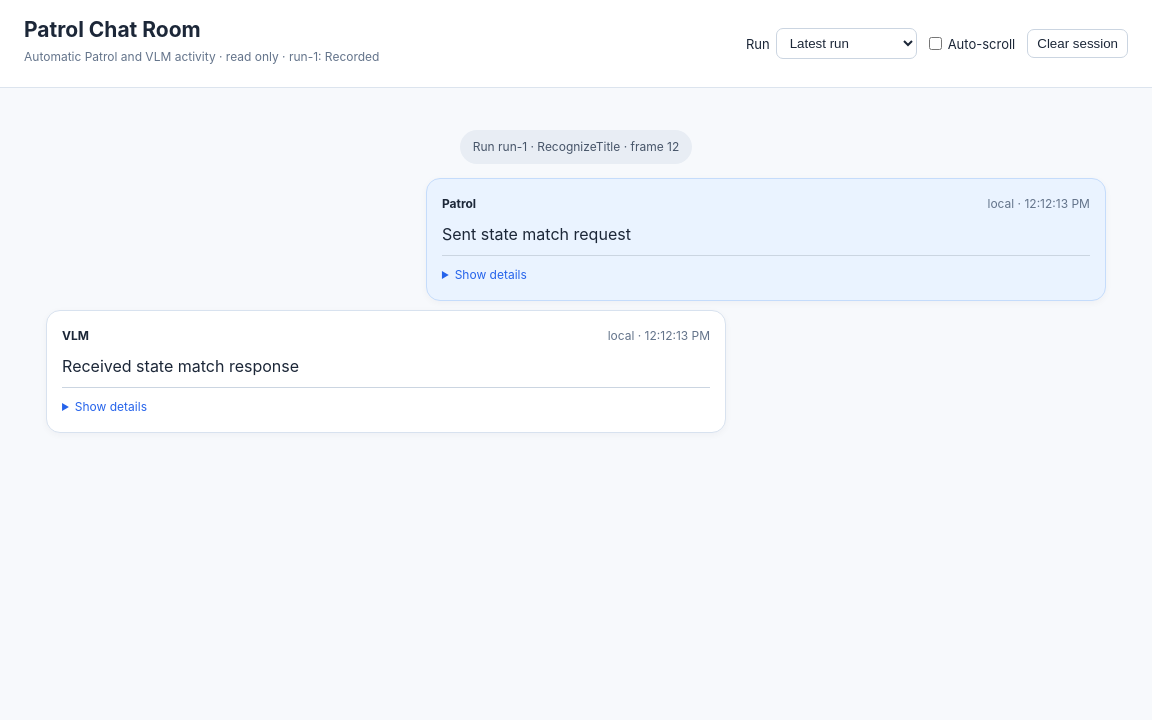
Test: Patrol Chat Room › places Patrol and VLM messages on opposite sides and keeps details and images closed
The width and height of the screenshot is (1152, 720).
Expected: the text "Run run-1 · RecognizeTitle · frame 12" is shown once, [460,130,692,164]
Expected: the text "Exact system instruction" is not shown
Step 1. Click the heading "Show details" below "Sent state match request" → point(491, 275), box [455,267,527,282]
(page scrolled)
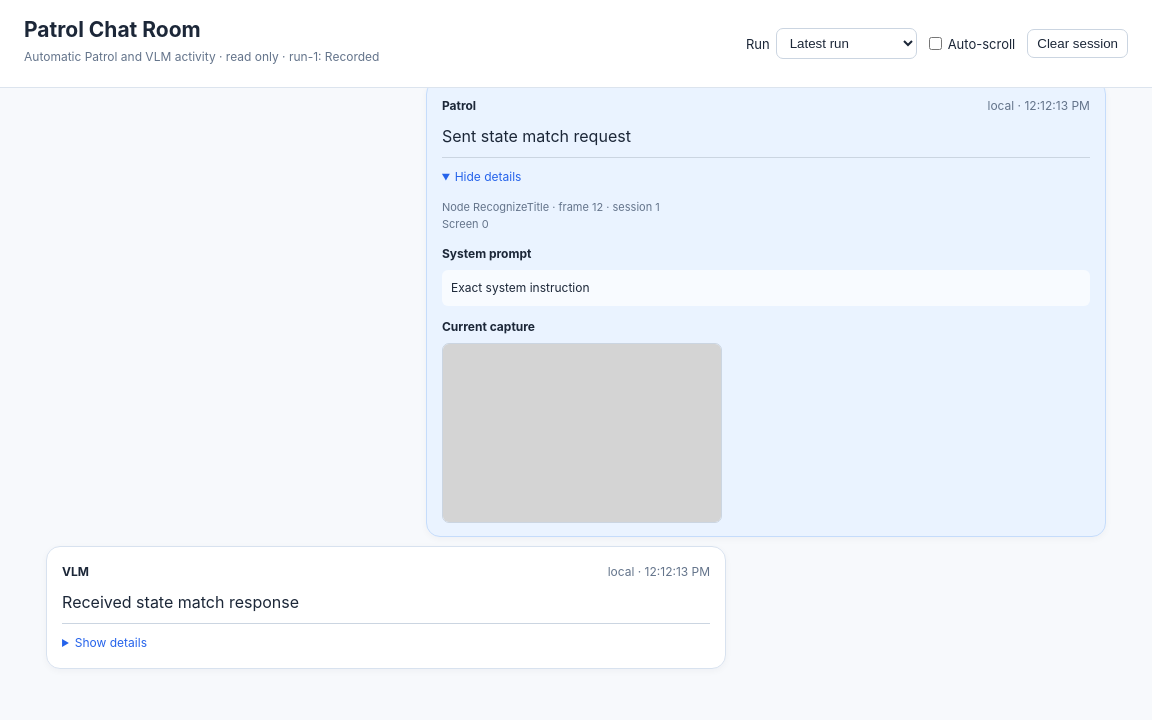
Result: the text "Exact system instruction" is shown at [442,270,1090,306]
Step 2. Click the heading "Show details" → point(111, 643), box [75,635,147,650]
(page scrolled)
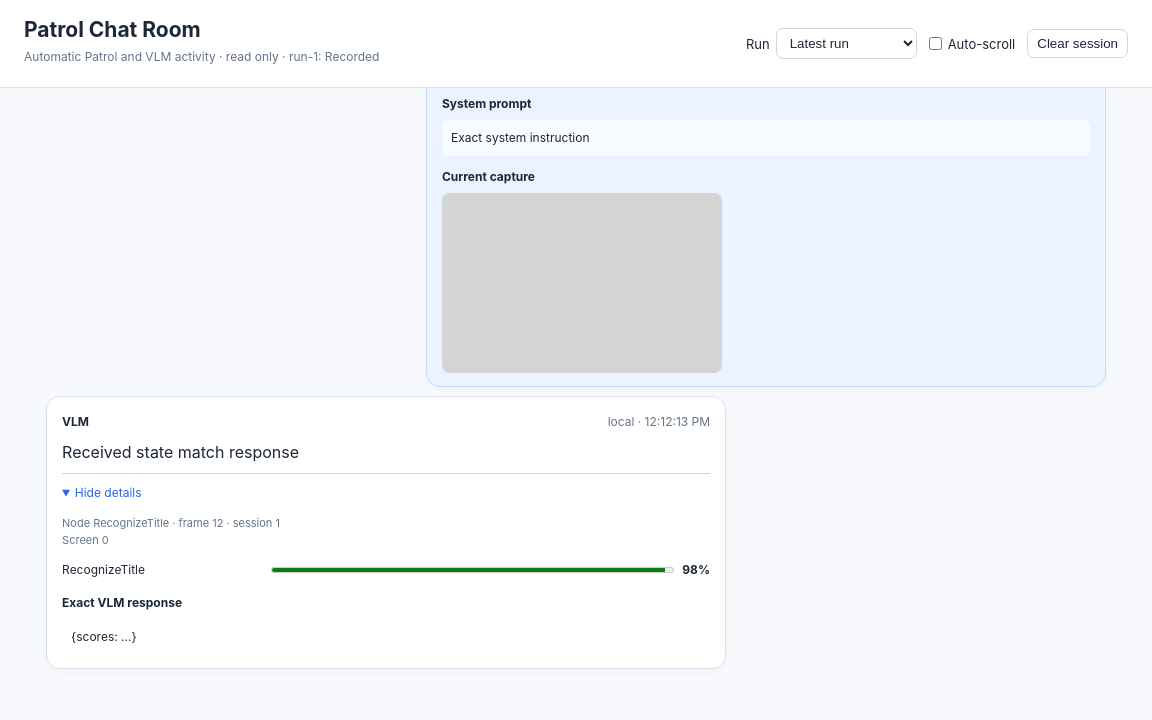
Result: the text "98%" is shown at [682,558,710,582]
Result: the text "{scores: ...}" is shown at [62,619,710,655]
